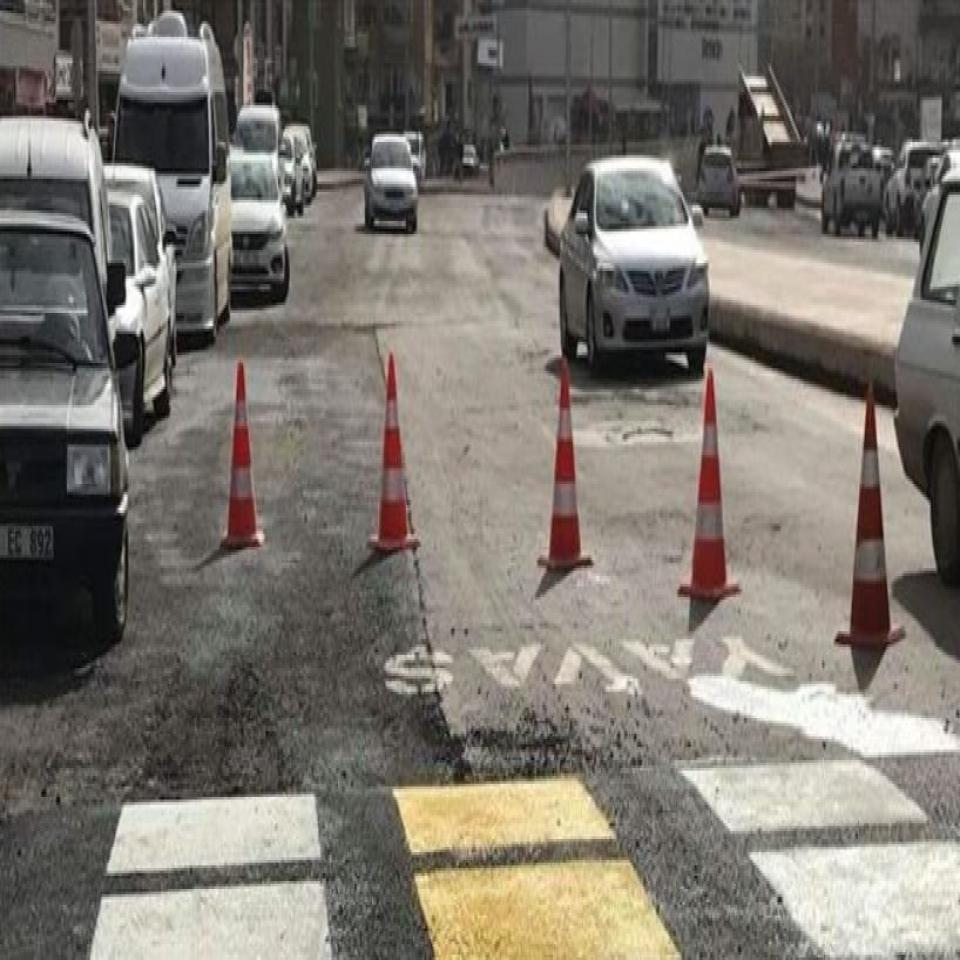speedbreaker: (6, 738, 954, 957)
